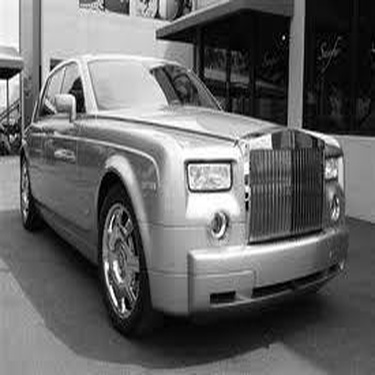car: (10, 44, 359, 322)
